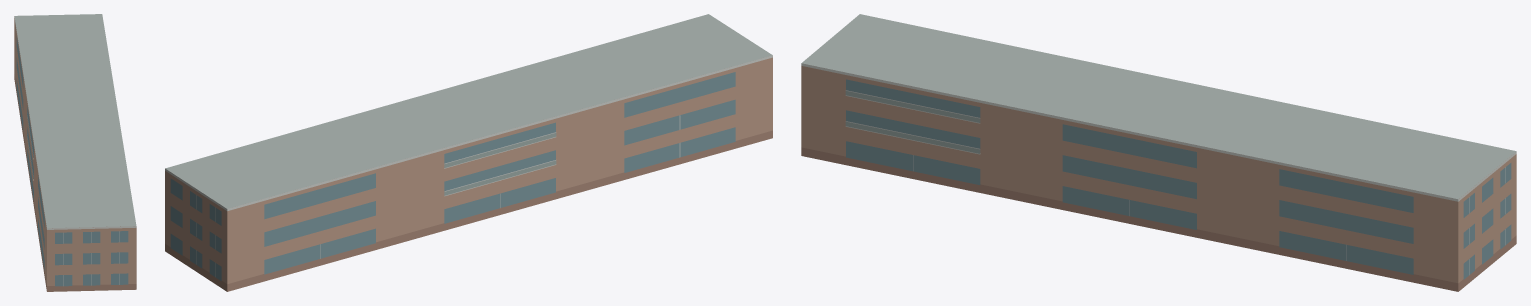
Rendered from survey-upis-32844581.glb.
3 views of the same model, side by side, from view 1: azimuth 30°, elevation 25°; view 2: azimuth 150°, elevation 25°; view 3: azimuth 270°, elevation 25° (orthographic). The views are drawn at different scales.
Visible parts, largest first — view 1: survey-upis-32844581.tmp; view 2: survey-upis-32844581.tmp; view 3: survey-upis-32844581.tmp.
Boxes of the visible parts, x1=… form: survey-upis-32844581.tmp: x1=14, y1=14, x2=136, y2=291; survey-upis-32844581.tmp: x1=165, y1=14, x2=772, y2=291; survey-upis-32844581.tmp: x1=801, y1=14, x2=1516, y2=291.
Size of the model in its own units: 38.61 by 9 by 62.99.
